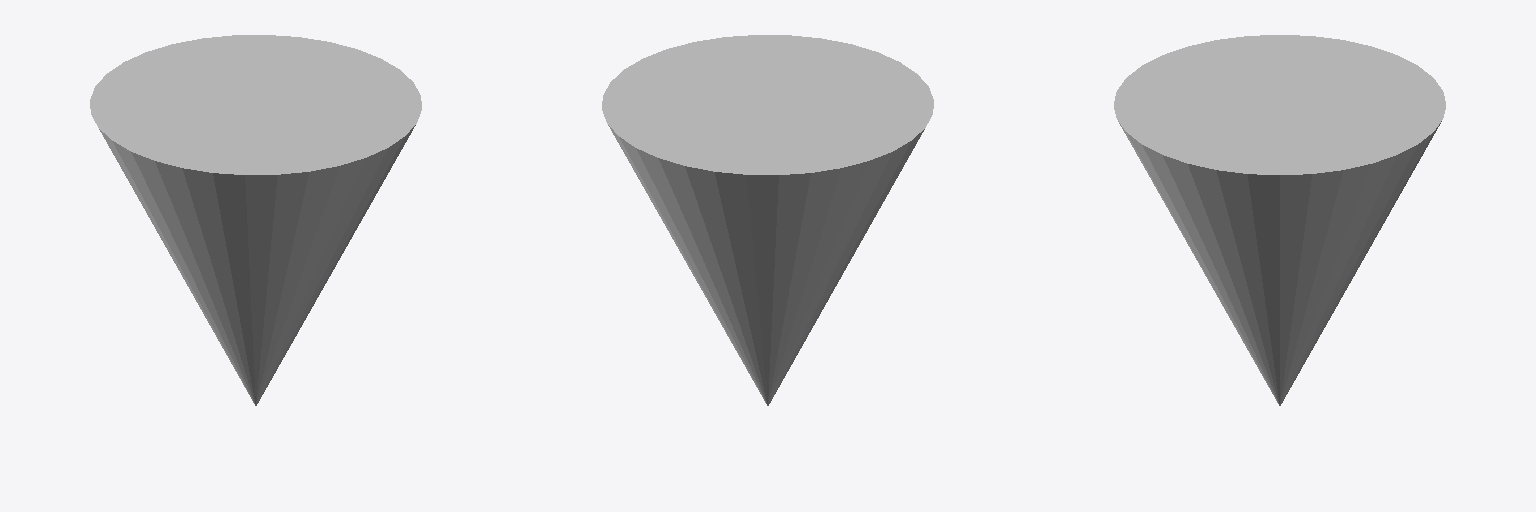
The model's file is hitb_island5.obj.
3 views of the same model, side by side, from view 1: azimuth 30°, elevation 25°; view 2: azimuth 150°, elevation 25°; view 3: azimuth 270°, elevation 25° (orthographic).
Visible parts, largest first — view 1: hitb_island5; view 2: hitb_island5; view 3: hitb_island5.
Boxes of the visible parts, x1,y1,x2,y2 form: hitb_island5: [90, 35, 421, 405]; hitb_island5: [602, 35, 933, 405]; hitb_island5: [1114, 35, 1445, 405].
Bounding box in the file's own units: 0.8979 × 0.8979 × 0.8979.